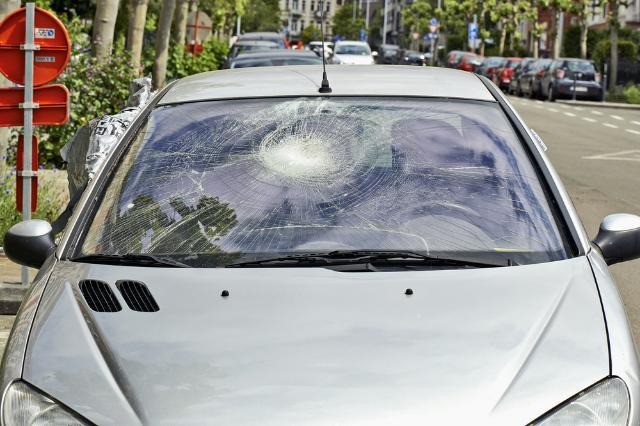glass shatter: (78, 97, 573, 270)
